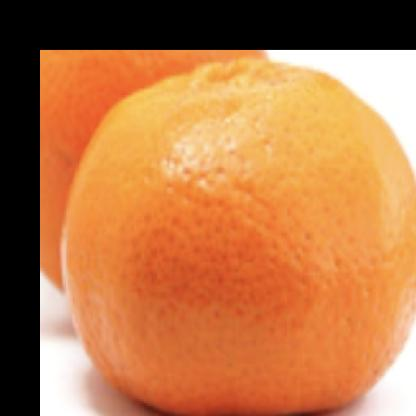fresh: (60, 53, 416, 416)
